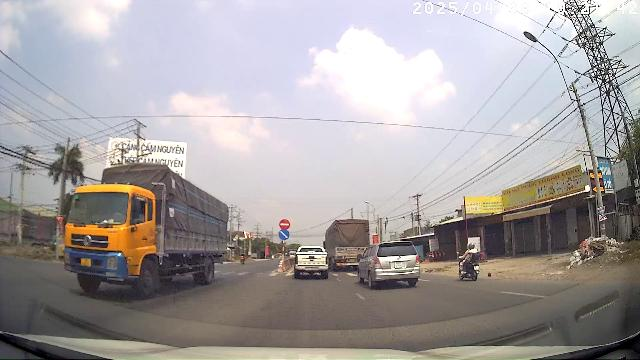102-cam-di-nguoc-chieu: (280, 219, 290, 229)
302a-huong-phai-di-vong-chuong-ngai-vat-1: (279, 230, 289, 240)
